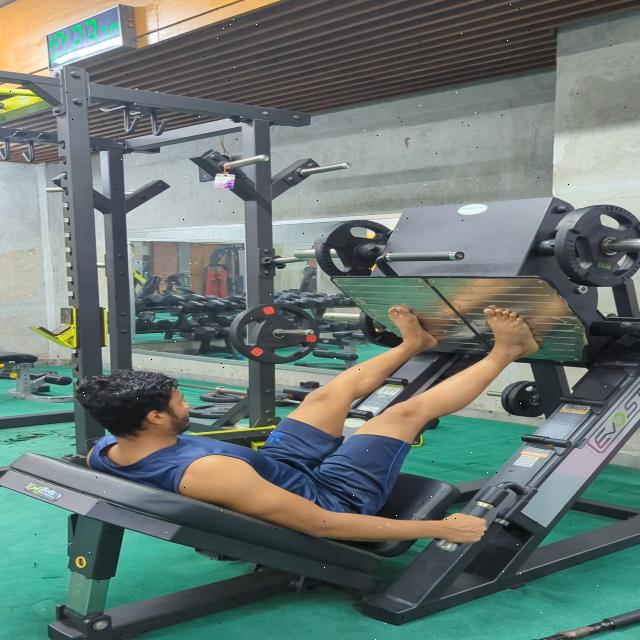Normal_LegPress: (62, 300, 557, 558)
